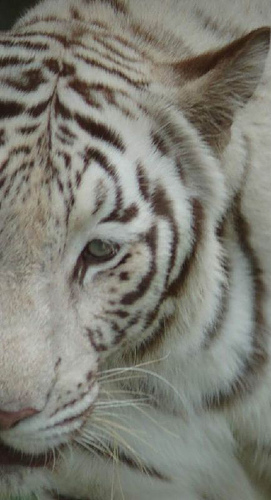Tigre: (4, 21, 222, 413)
